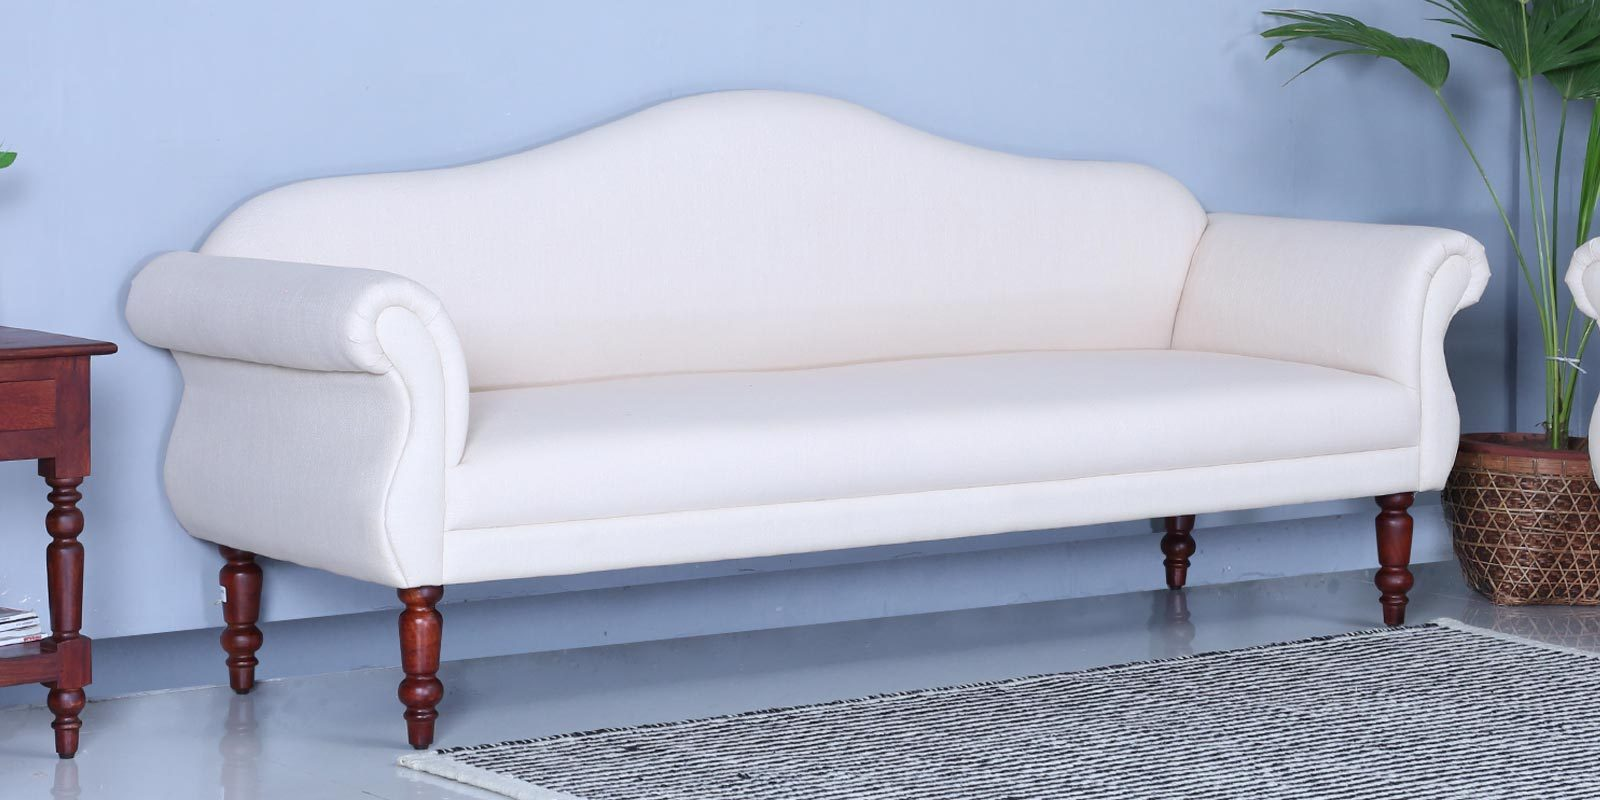Harleston Three Seater Sofa in Honey Oak Finish by Amberville: (103, 82, 1514, 750)
